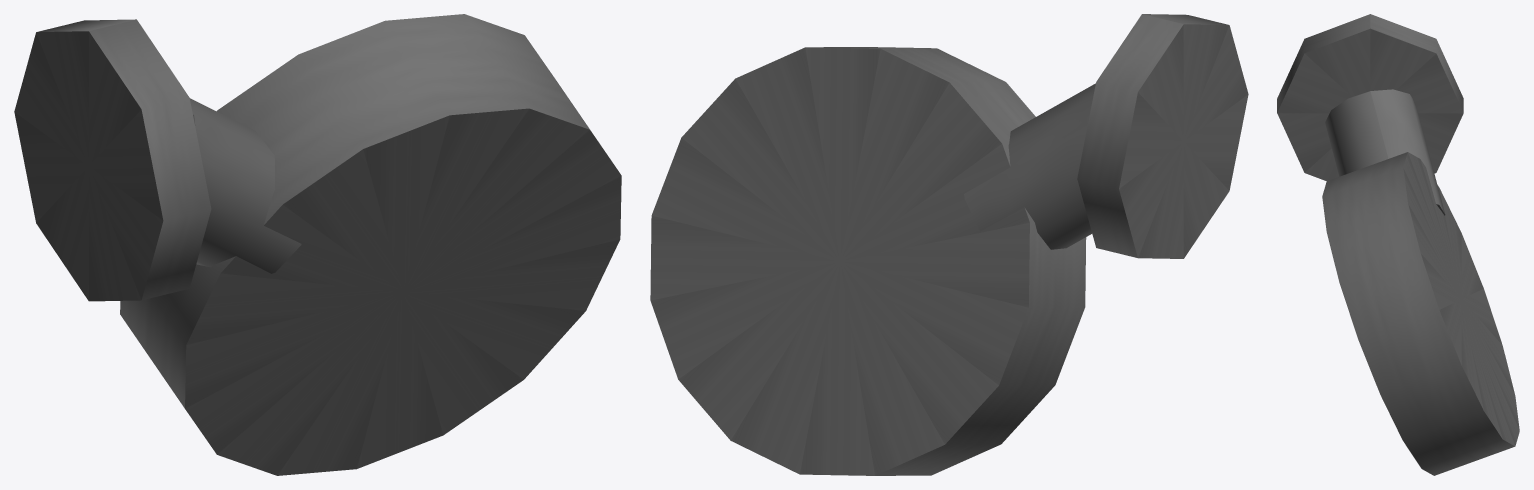
File: mastarmcurve_8x2_c2_west.obj
The picture shows the model from 3 angles, left to right: view 1: azimuth 30°, elevation 25°; view 2: azimuth 150°, elevation 25°; view 3: azimuth 270°, elevation 25°; orthographic projection. The views are drawn at different scales.
Parts seen in each view (by area): view 1: mastarm_8x2_c2_west; view 2: mastarm_8x2_c2_west; view 3: mastarm_8x2_c2_west.
Part boxes in pixels (bbox=[...]): mastarm_8x2_c2_west: bbox=[14, 14, 621, 475]; mastarm_8x2_c2_west: bbox=[650, 14, 1248, 475]; mastarm_8x2_c2_west: bbox=[1277, 14, 1519, 475].
Bounding box in the file's own units: 0.8356 × 0.8236 × 0.5202.
